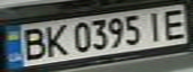0: (69, 19, 93, 53)
3: (90, 17, 109, 51)
5: (121, 12, 148, 46)
9: (106, 15, 127, 48)
B: (15, 25, 51, 62)
E: (157, 6, 193, 40)
I: (142, 9, 169, 42)
K: (39, 23, 72, 57)
